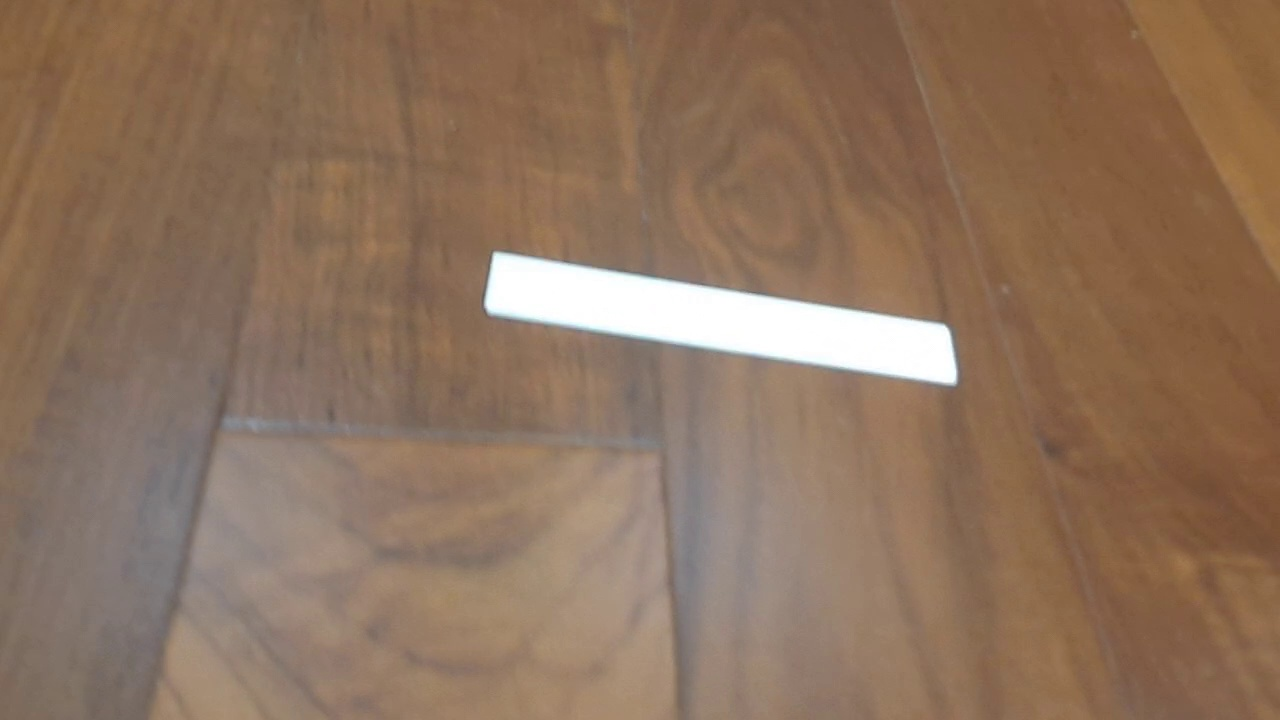ruler: (481, 248, 959, 388)
